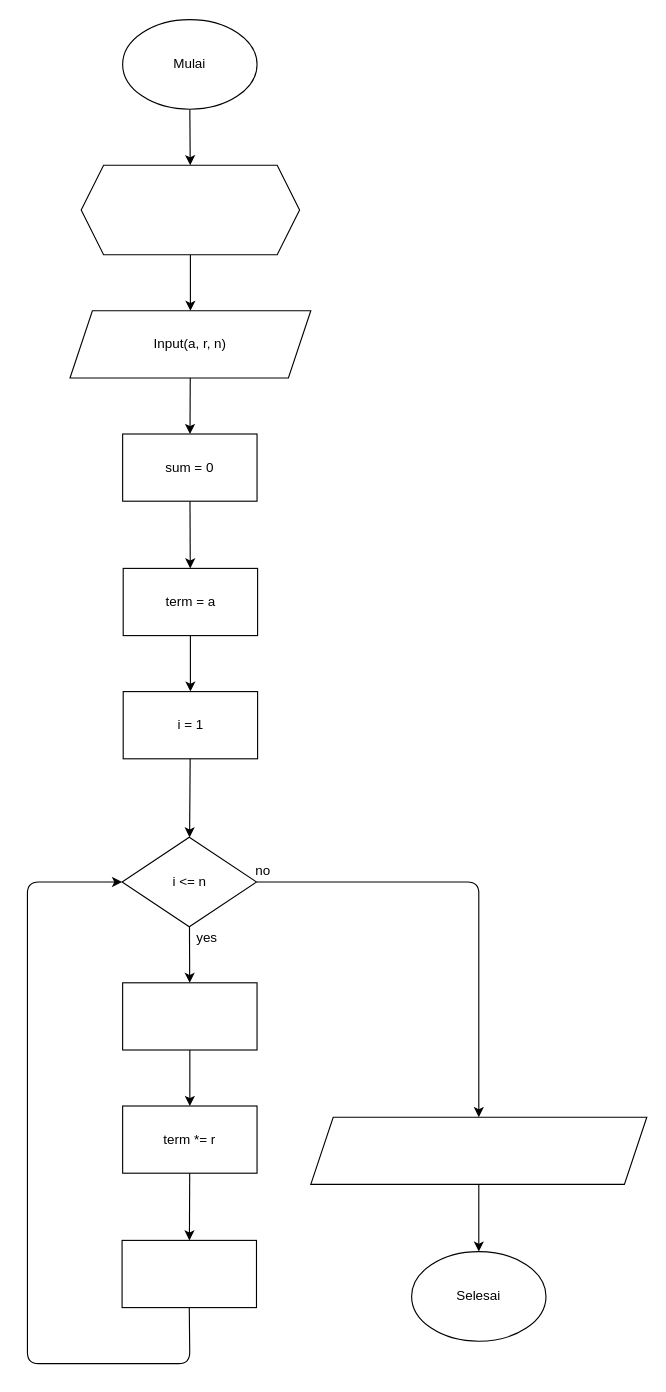
This 666x1392 diagram has some shape labels left out. The centre of each missing label's shape, as x and y in pixels:
double a, r, sum, term int n, i: [190,209]
i++: [188,1273]
Output("Jumlah deret geometri adalah: " + sum): [478,1150]
sum += term: [189,1016]
